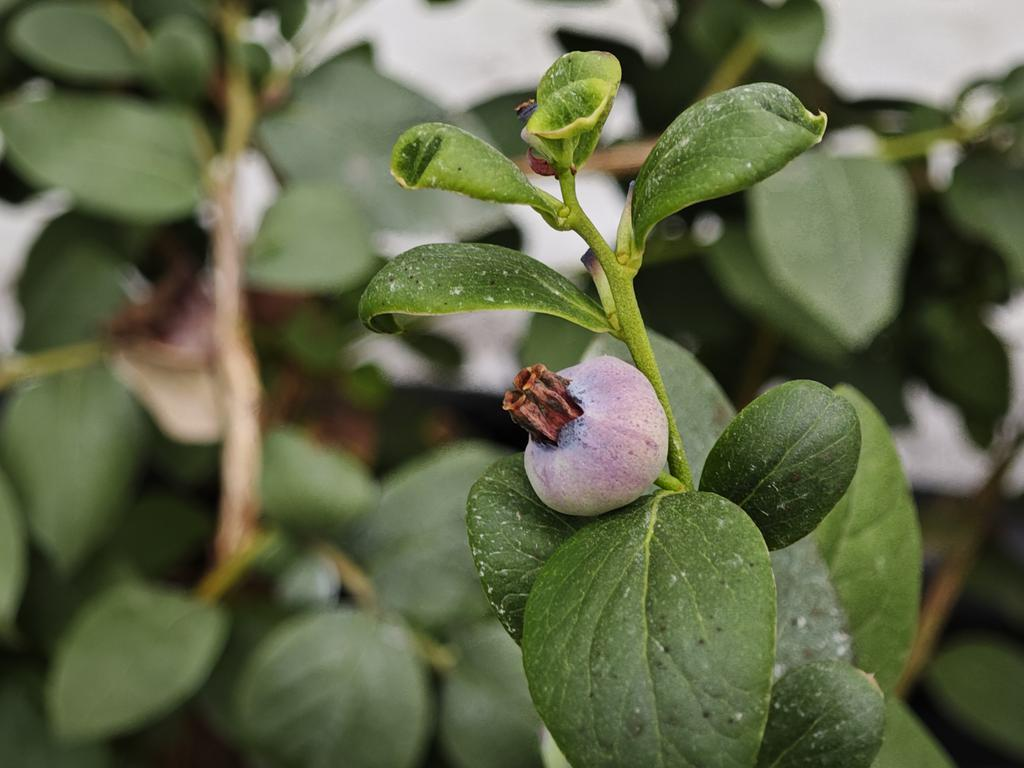Semi-RipeBlueBerry: (519, 349, 673, 520)
